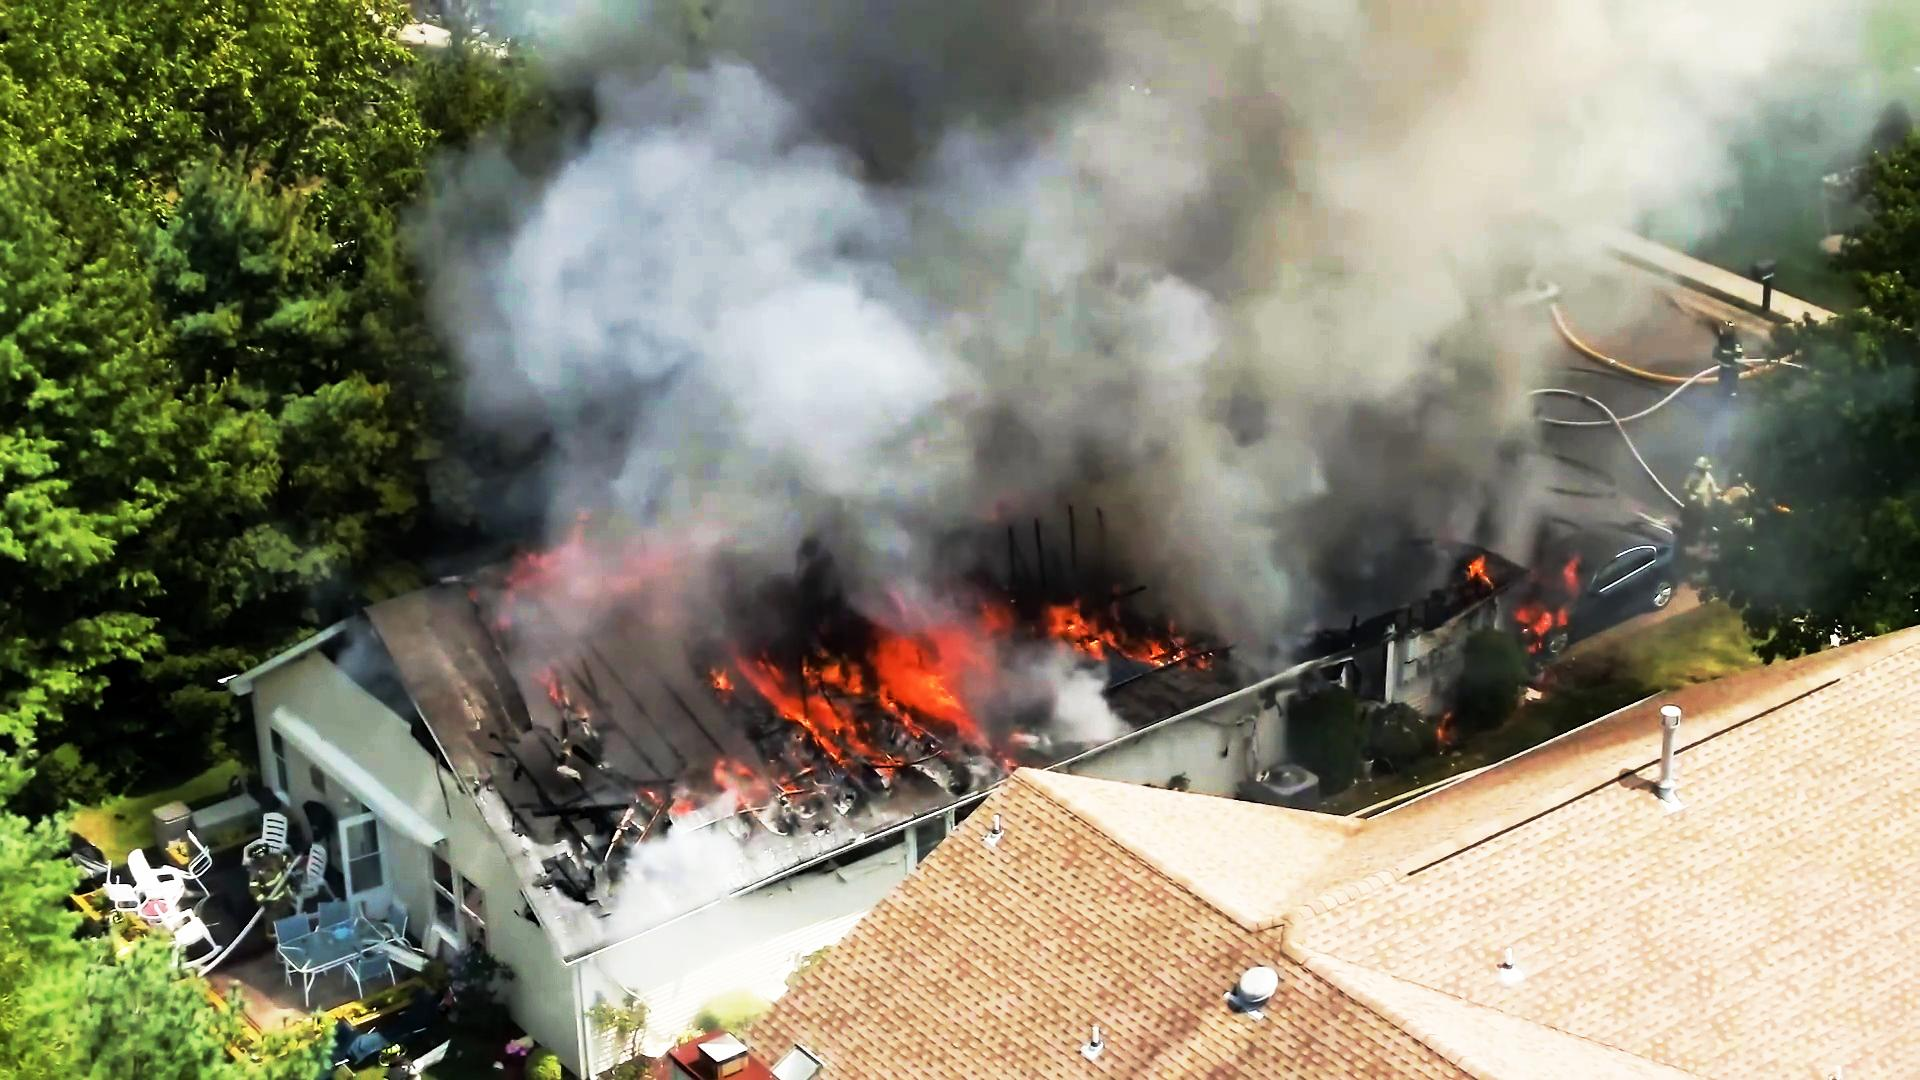fire: (741, 622, 986, 774)
smoke: (496, 70, 939, 546)
